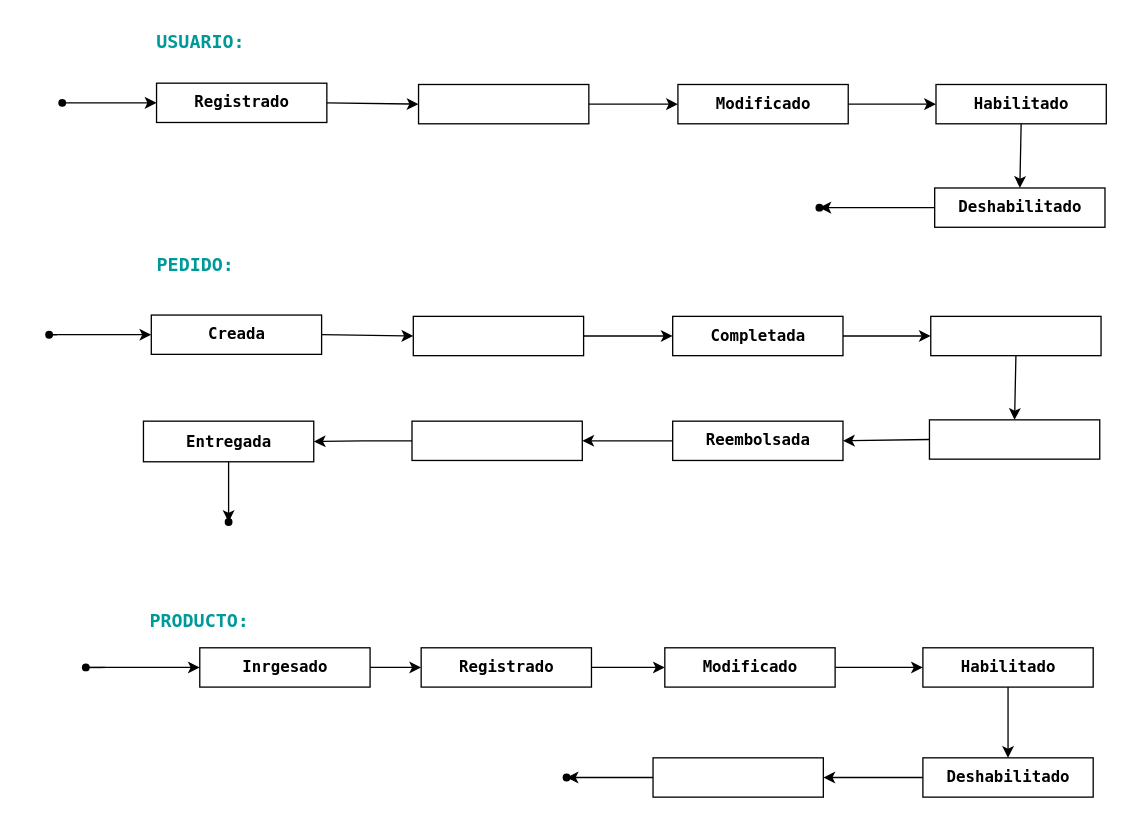
This 1129x827 diagram has some shape labels left out. Each missing label, with the centre of its shape:
"Agotado" belongs at point (737, 777).
"Aprobada" belongs at point (1015, 335).
"Cancelada" belongs at point (1014, 439).
"Identificado" belongs at point (503, 103).
"Modificada" belongs at point (498, 335).
"Pendiente" belongs at point (496, 440).
